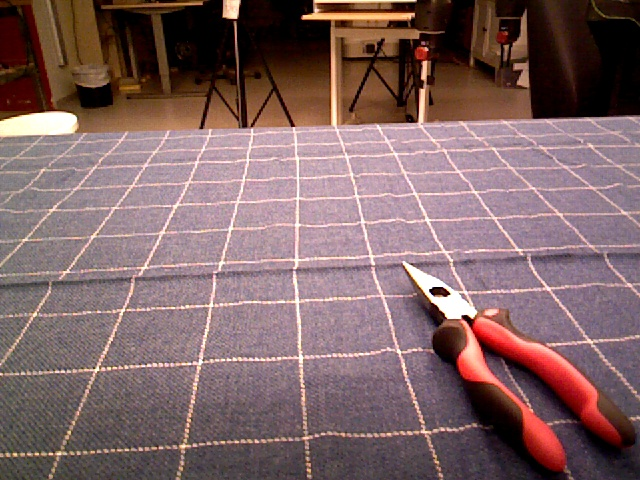plier1: (399, 258, 638, 474)
